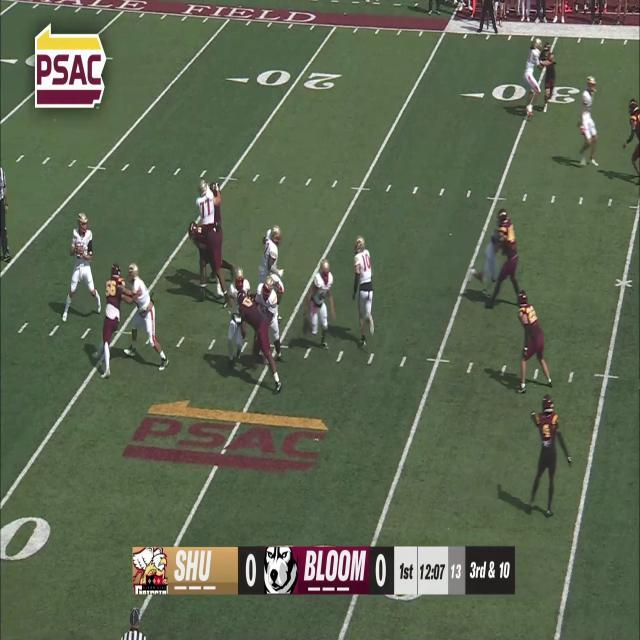football: (76, 242, 82, 258)
